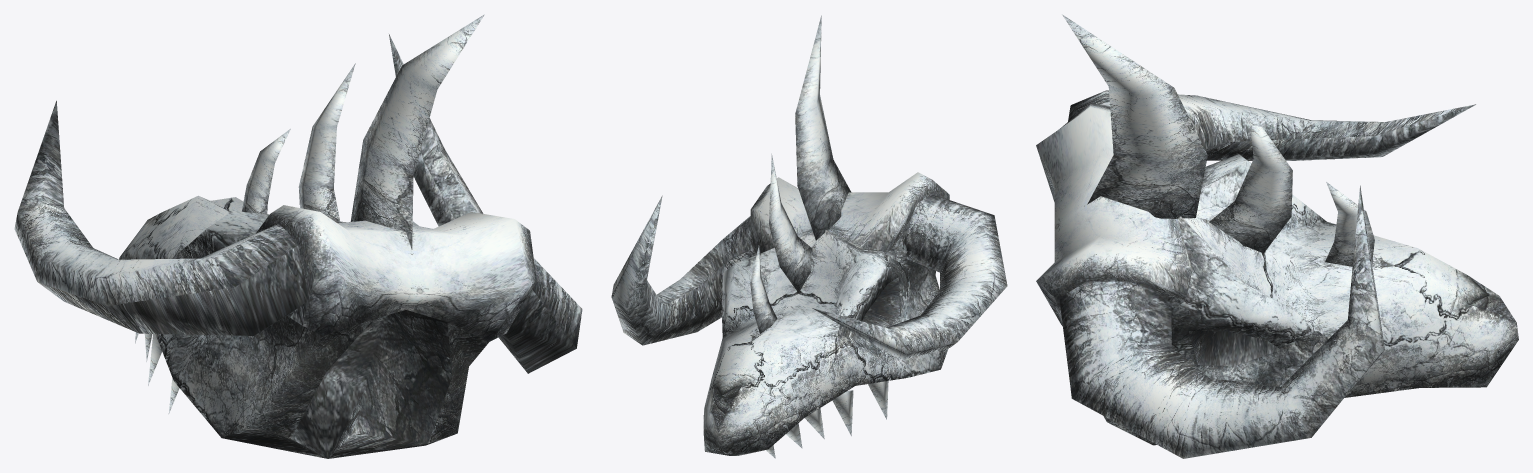
The model's file is ice_dragonbone_01.fbx.
3 renders of one model, left to right at view 1: azimuth 30°, elevation 25°; view 2: azimuth 150°, elevation 25°; view 3: azimuth 270°, elevation 25°, orthographic. The views are drawn at different scales.
Visible parts, largest first — view 1: ice_dragonbone_01; view 2: ice_dragonbone_01; view 3: ice_dragonbone_01.
Boxes of the visible parts, x1,y1,x2,y2 form: ice_dragonbone_01: (14, 14, 582, 458); ice_dragonbone_01: (611, 15, 1007, 458); ice_dragonbone_01: (1036, 14, 1518, 458).
Size of the model in its own units: 11.64 by 11.07 by 11.1.
